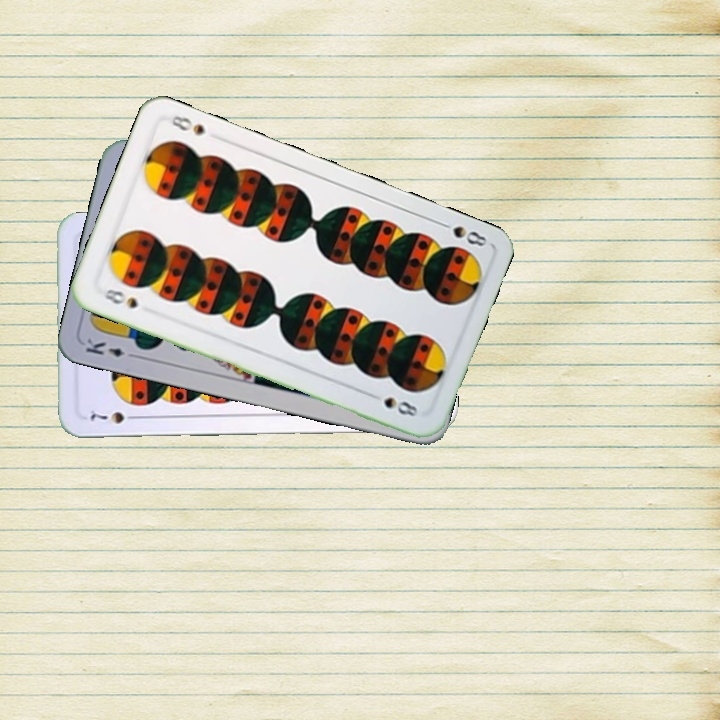EK: (81, 334, 140, 361)
S7: (86, 407, 142, 426)
S8: (433, 217, 490, 250), (94, 284, 140, 311)
